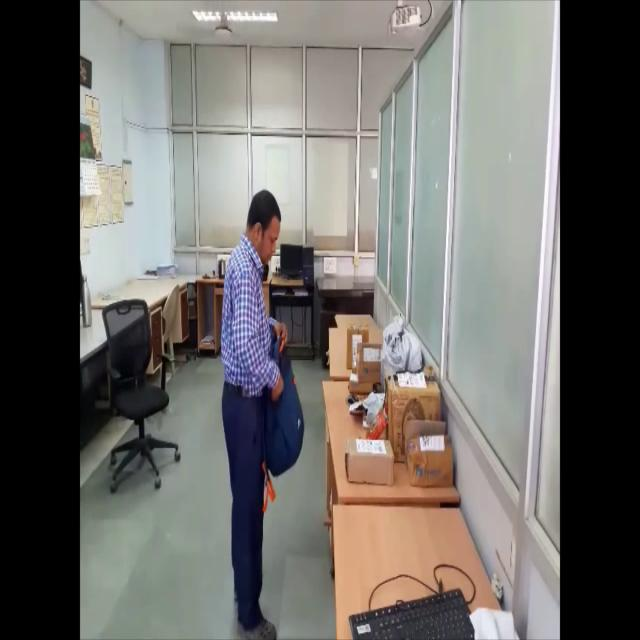shoplifting: (211, 170, 309, 636)
